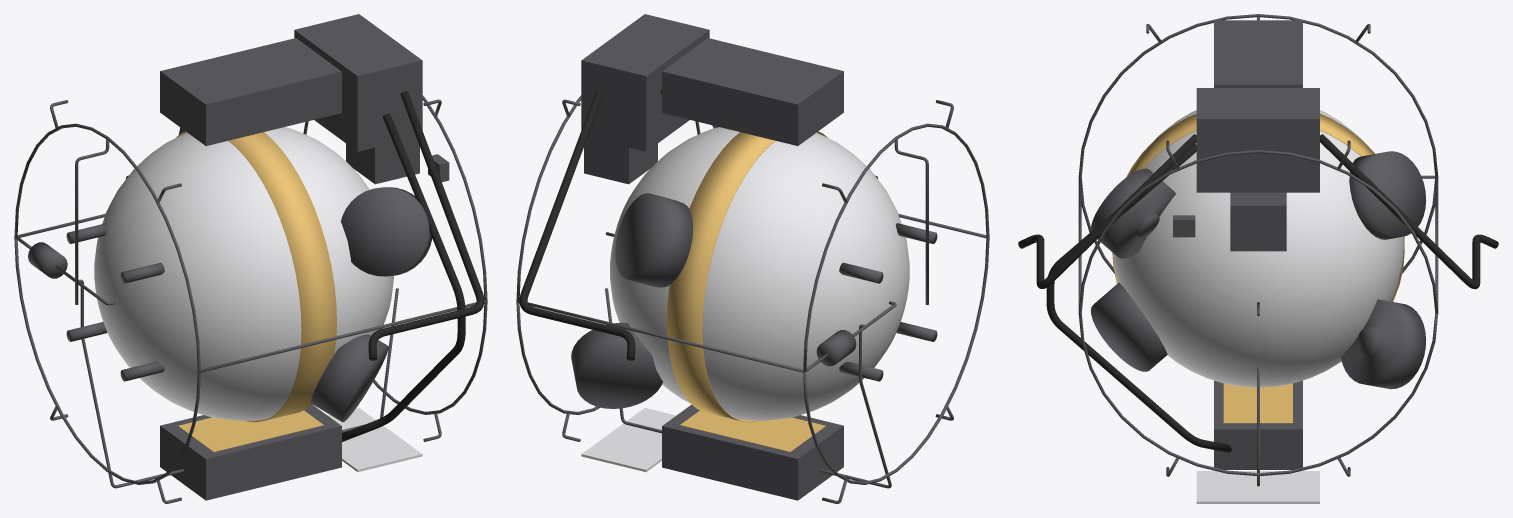
Rendered from aether.glb.
The picture shows the model from 3 angles, left to right: view 1: azimuth 30°, elevation 25°; view 2: azimuth 150°, elevation 25°; view 3: azimuth 270°, elevation 25°; orthographic projection. The views are drawn at different scales.
Visible parts, largest first — view 1: tank, battery0, pcdu, tank_heater, battery1, wheel1, wheel2, harness_bat_bottom, manifold_aft, harness_wing1, battery_heater1, avionics_slot_plate (+8 smaller); view 2: tank, battery0, pcdu, tank_heater, battery1, wheel0, wheel3, manifold_aft, avionics_slot_plate, harness_wing0, battery_heater1, transponder (+6 smaller); view 3: tank, pcdu, battery0, wheel3, wheel0, battery1, manifold_fwd, avionics_slot_plate, wheel2, wheel1, transponder, harness_bat_bottom (+6 smaller).
Part boxes in pixels (x1,y1,x2,y2): tank: (94, 127, 393, 420); battery0: (160, 38, 341, 145); pcdu: (294, 14, 422, 151); tank_heater: (176, 131, 336, 422); battery1: (160, 404, 341, 500); wheel1: (341, 187, 432, 276); wheel2: (311, 334, 388, 422); harness_bat_bottom: (342, 113, 465, 441); manifold_aft: (14, 123, 200, 484); harness_wing1: (368, 91, 484, 360); battery_heater1: (178, 410, 323, 452); avionics_slot_plate: (327, 408, 422, 471); tank: (610, 127, 909, 420); battery0: (662, 38, 843, 145); pcdu: (581, 14, 709, 151); tank_heater: (667, 131, 827, 422); battery1: (662, 404, 843, 500); wheel0: (615, 193, 692, 287); wheel3: (571, 322, 662, 408); manifold_aft: (803, 123, 989, 484); avionics_slot_plate: (581, 408, 676, 472); harness_wing0: (519, 91, 635, 360); battery_heater1: (680, 410, 825, 452); transponder: (584, 137, 657, 184); tank: (1113, 110, 1403, 387); pcdu: (1196, 88, 1319, 192); battery0: (1214, 20, 1302, 87); wheel3: (1340, 299, 1425, 389); wheel0: (1349, 151, 1426, 239); battery1: (1214, 380, 1302, 469); manifold_fwd: (1078, 150, 1438, 476); avionics_slot_plate: (1196, 471, 1319, 503); wheel2: (1090, 282, 1167, 371); wheel1: (1090, 168, 1175, 258); transponder: (1230, 192, 1286, 251); harness_bat_bottom: (1046, 144, 1231, 452).
Size of the model in its own units: 0.7482 by 0.858 by 0.9704.
